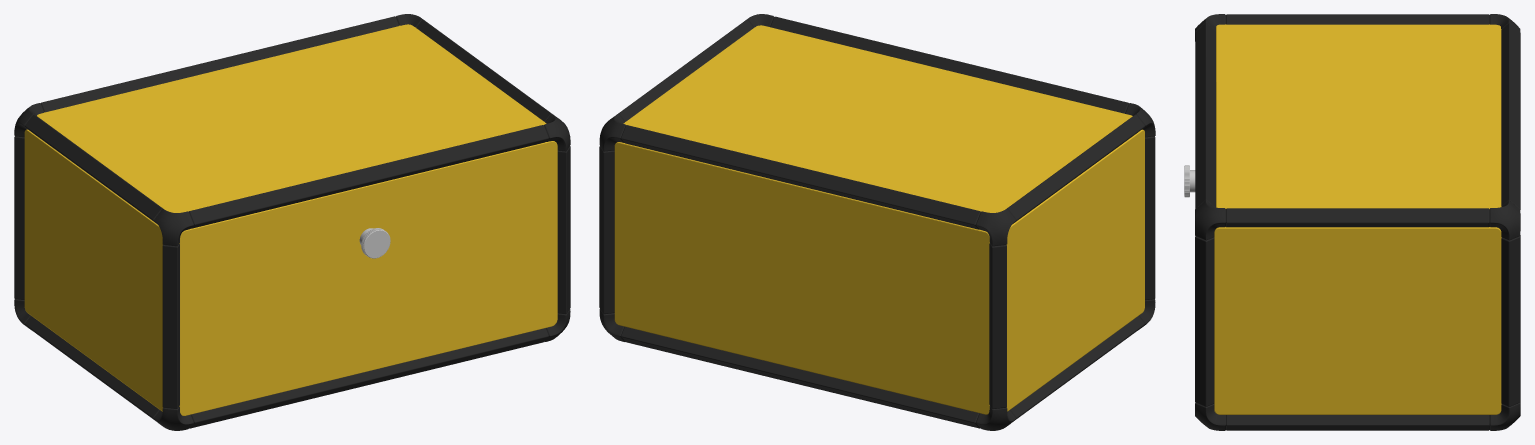
3 renders of one model, left to right at view 1: azimuth 30°, elevation 25°; view 2: azimuth 150°, elevation 25°; view 3: azimuth 270°, elevation 25°, orthographic. The views are drawn at different scales.
Visible parts, largest first — view 1: 523x329x229; view 2: 523x329x229; view 3: 523x329x229.
Boxes of the visible parts, x1,y1,x2,y2 form: 523x329x229: (14,14,570,430); 523x329x229: (599,14,1155,430); 523x329x229: (1184,14,1520,430).
Size of the model in its own units: 0.6007 by 0.3067 by 0.4196.
